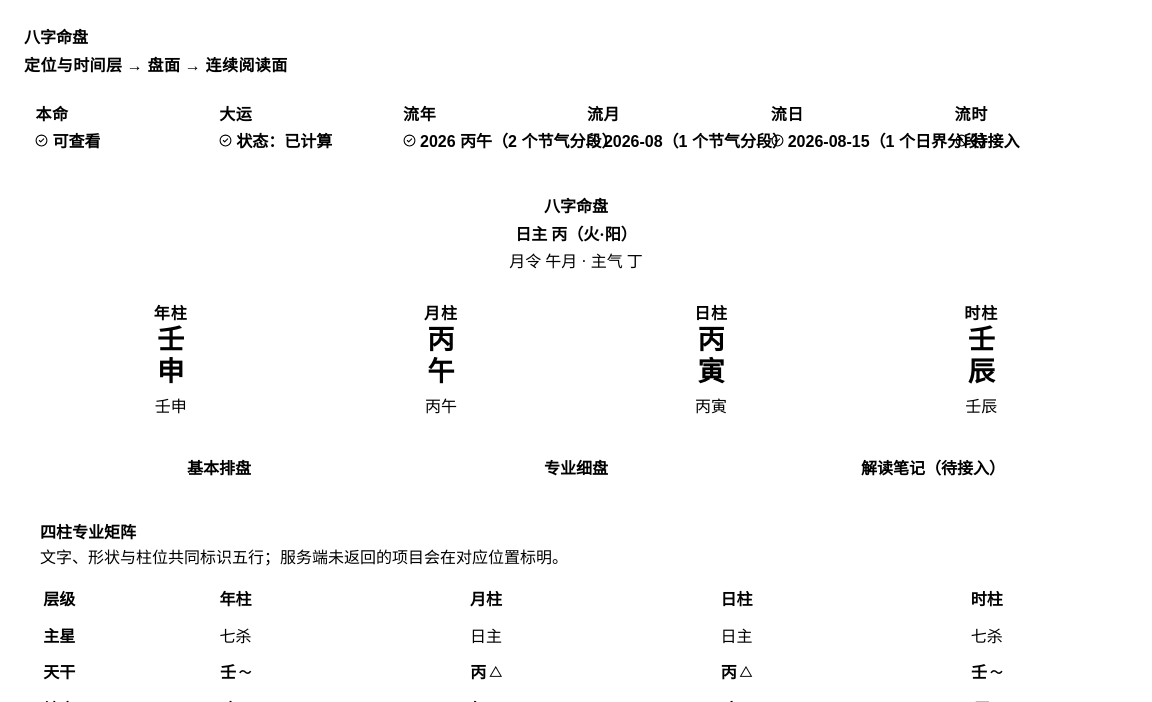
Test case: BaziChart fact-density workspace › keeps six layer panels mounted and exposes paid facts only with a server grant
Click the tab "流年 2026 丙午（2 个节气分段）": x=484, y=127 [393,94,576,160]
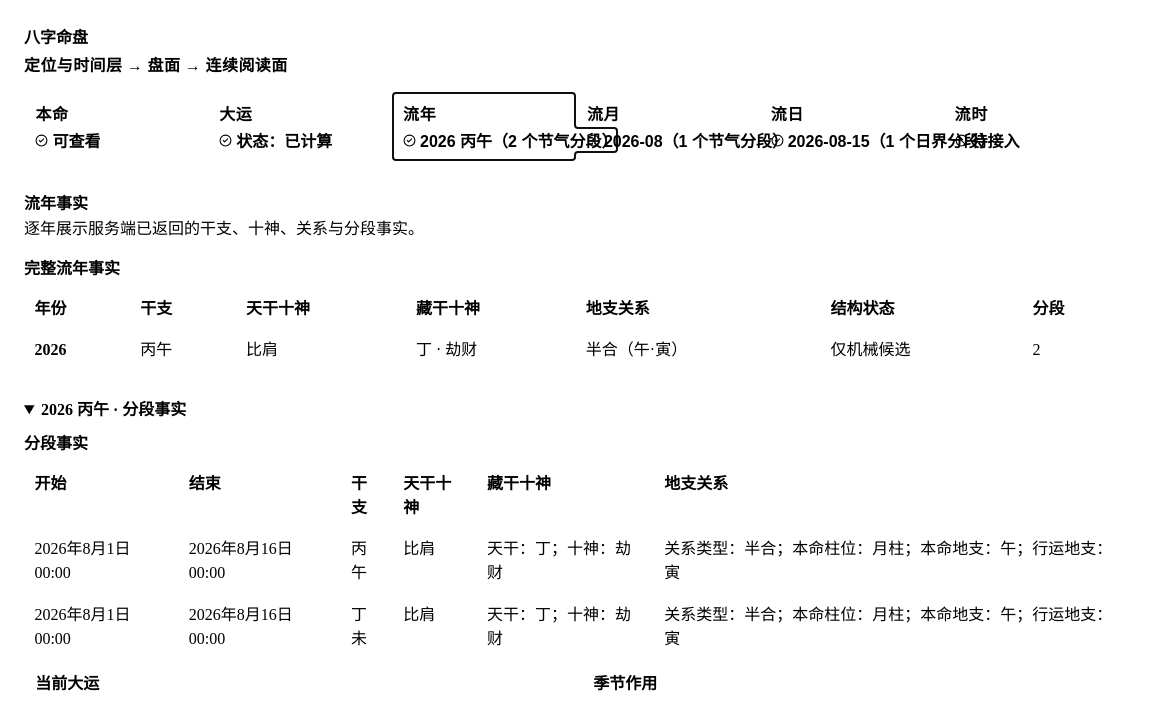
Check: the table "完整流年事实" is shown, box [24,256,1128,371]
Check: the row "2026 丙午 比肩 丁 · 劫财 半合（午·寅） 仅机械候选 2" is shown, box [24,329,1128,371]
Check: the text "仅机械候选" is shown, box [820,329,1022,371]
Click the tab "流月 2026-08（1 个节气分段）": x=668, y=127 [576,94,759,160]
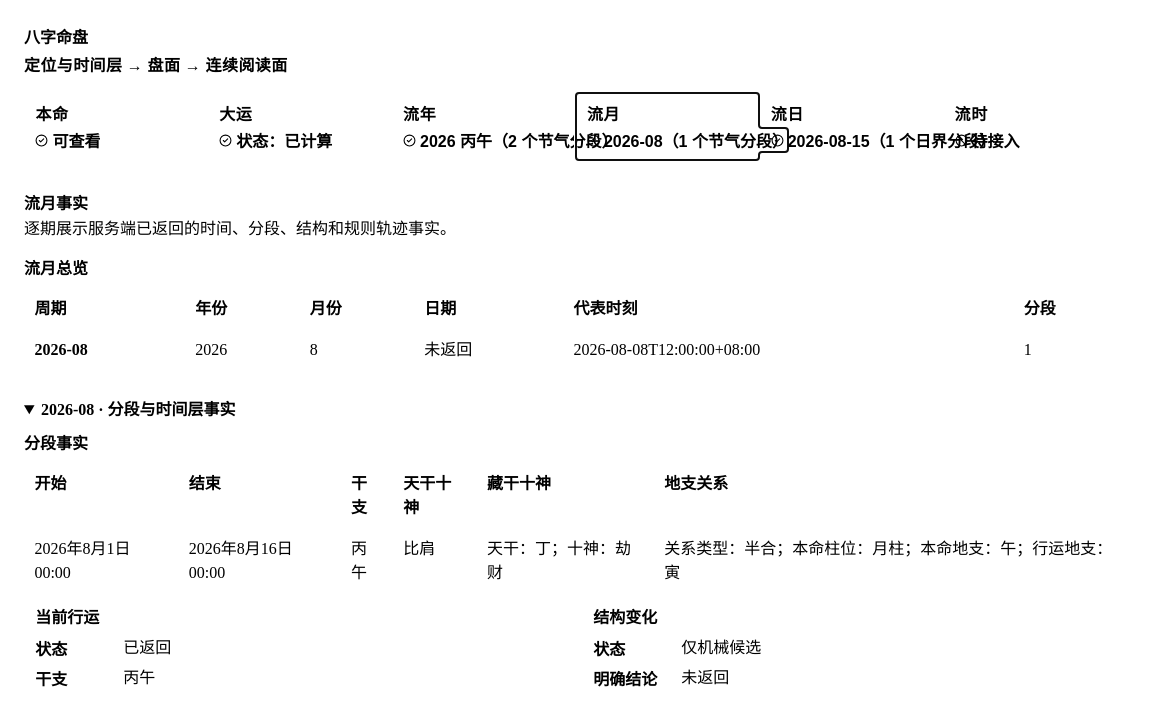
Check: the table "流月总览" is shown, box [24,256,1128,371]
Check: the column heading "2026-08" is shown, box [24,329,185,371]
Click the tab "流日 2026-08-15（1 个日界分段）": x=852, y=127 [760,94,943,160]
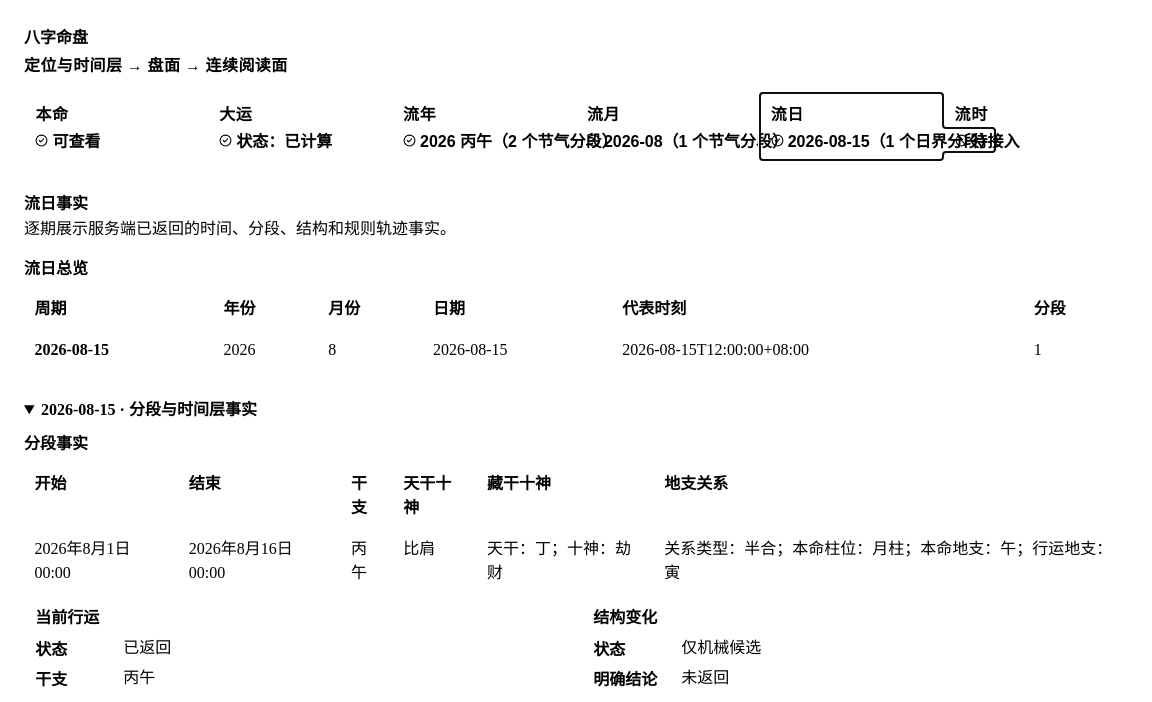
Check: the tab "流时 待接入" is disabled, box [944,94,1127,160]
Check: the table "流日总览" is shown, box [24,256,1128,371]
Check: the column heading "2026-08-15" is shown, box [24,329,213,371]
